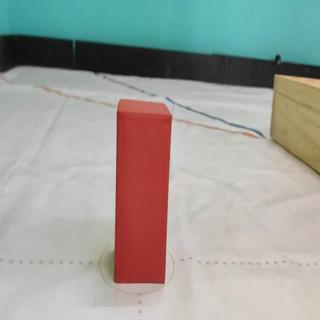redbox: (113, 97, 173, 285)
